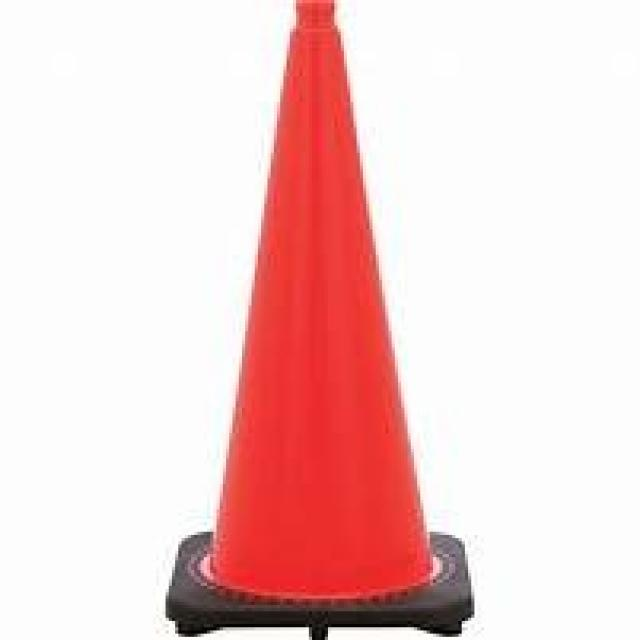traffic cone: (154, 2, 487, 640)
